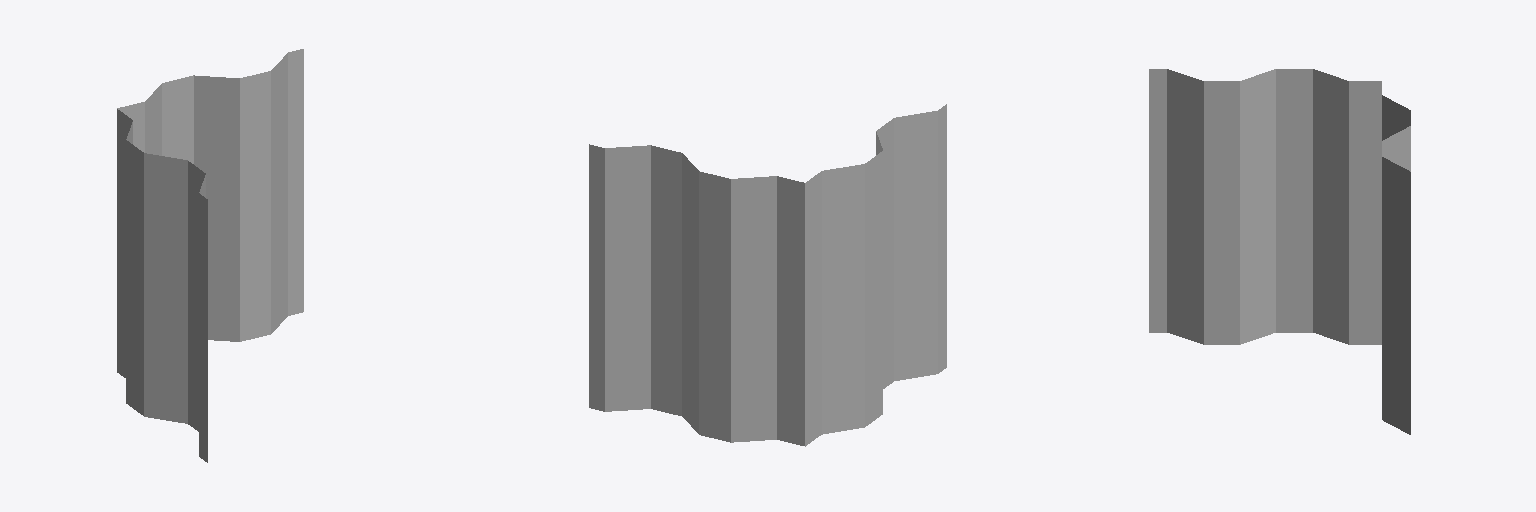
Rendered from Outer_Corner_Wall.obj.
3 views of the same model, side by side, from view 1: azimuth 30°, elevation 25°; view 2: azimuth 150°, elevation 25°; view 3: azimuth 270°, elevation 25° (orthographic).
Parts seen in each view (by area): view 1: Outer_Corner_Wall; view 2: Outer_Corner_Wall; view 3: Outer_Corner_Wall.
Part boxes in pixels (x1,y1,x2,y2): Outer_Corner_Wall: (117, 49, 303, 462); Outer_Corner_Wall: (589, 104, 946, 446); Outer_Corner_Wall: (1149, 69, 1410, 434).
Size of the model in its own units: 0.9 by 1 by 0.9.